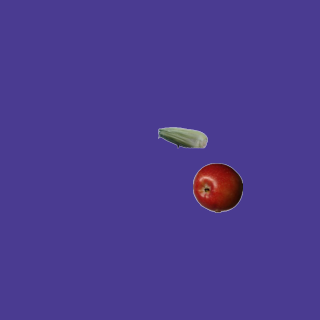Apple Braeburn: (192, 162, 242, 212)
Corn Husk: (157, 112, 207, 162)
